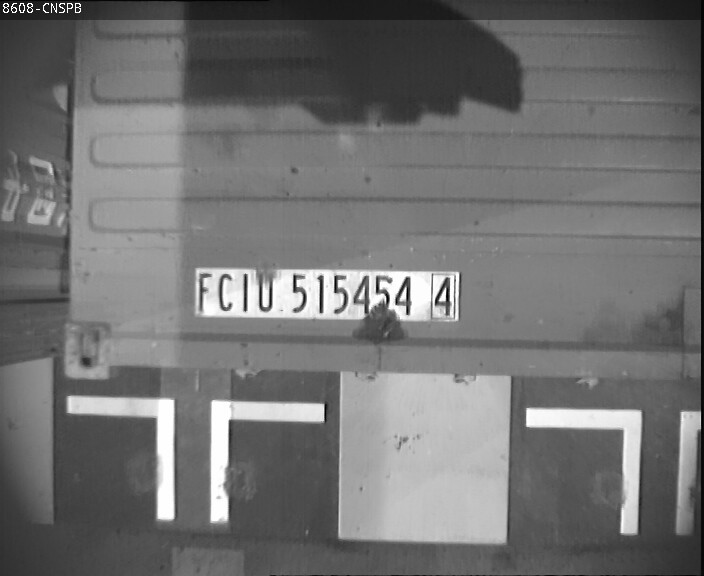groundmarker_1: (66, 393, 324, 520), (525, 408, 703, 536)
